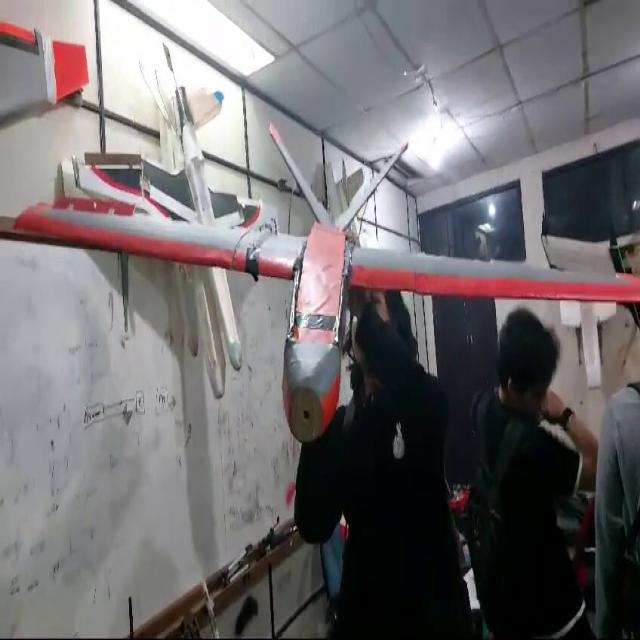plane: (0, 42, 639, 444)
